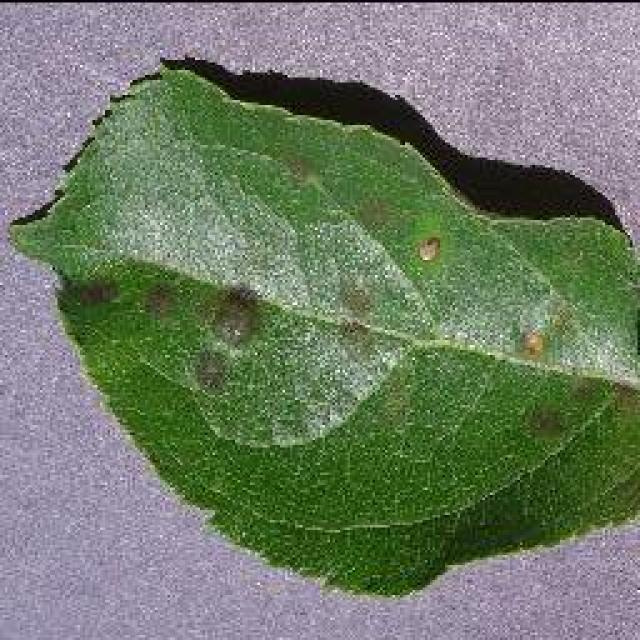apple scab disease: (8, 52, 638, 600)
